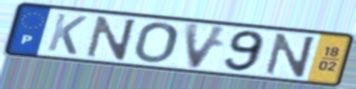9: (222, 29, 268, 74)
K: (44, 12, 90, 57)
N: (263, 31, 319, 79), (84, 14, 140, 61)
O: (132, 21, 181, 65)
V: (183, 20, 232, 71)
